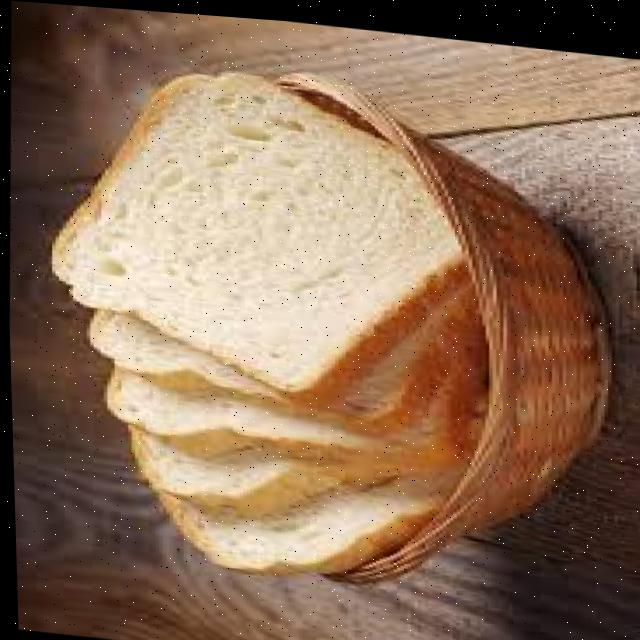Bread: (51, 71, 457, 385), (158, 467, 450, 569), (105, 365, 394, 438), (88, 309, 279, 389), (129, 426, 292, 491)
